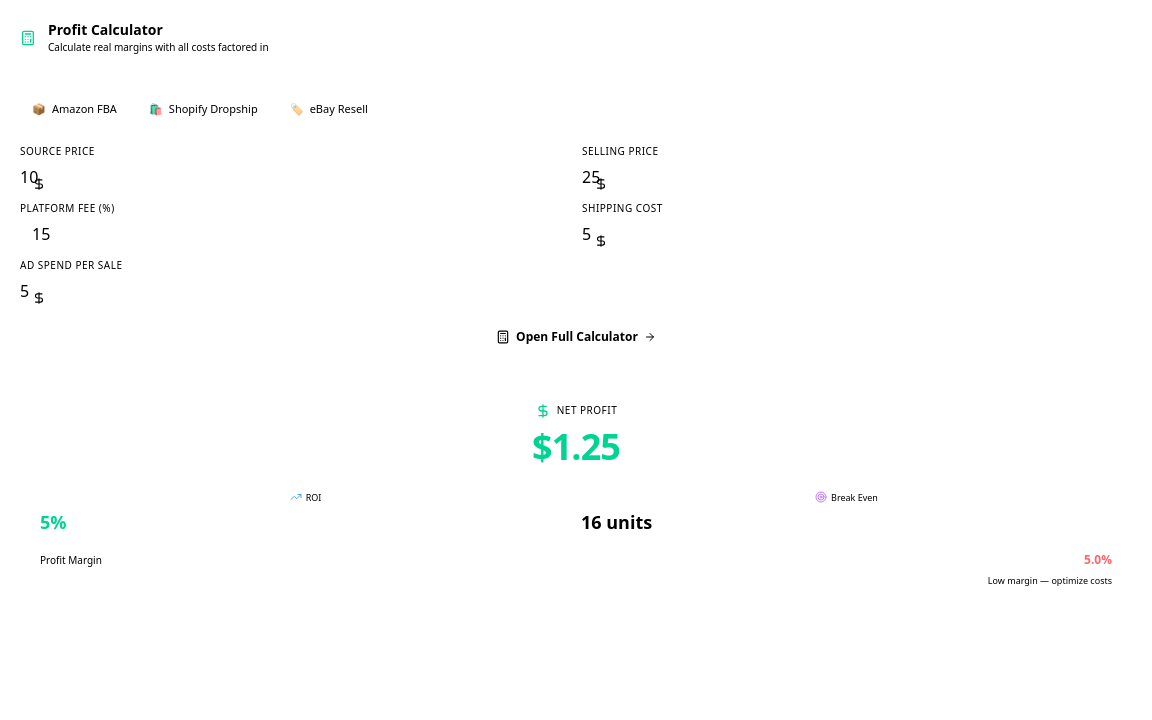
Scenario: ProfitCalculator › applies an eBay Resell preset and updates the math
This screenshot has width=1152, height=720.
Click the button "🏷️ eBay Resell".
click(329, 109)  # box [278,95,380,124]
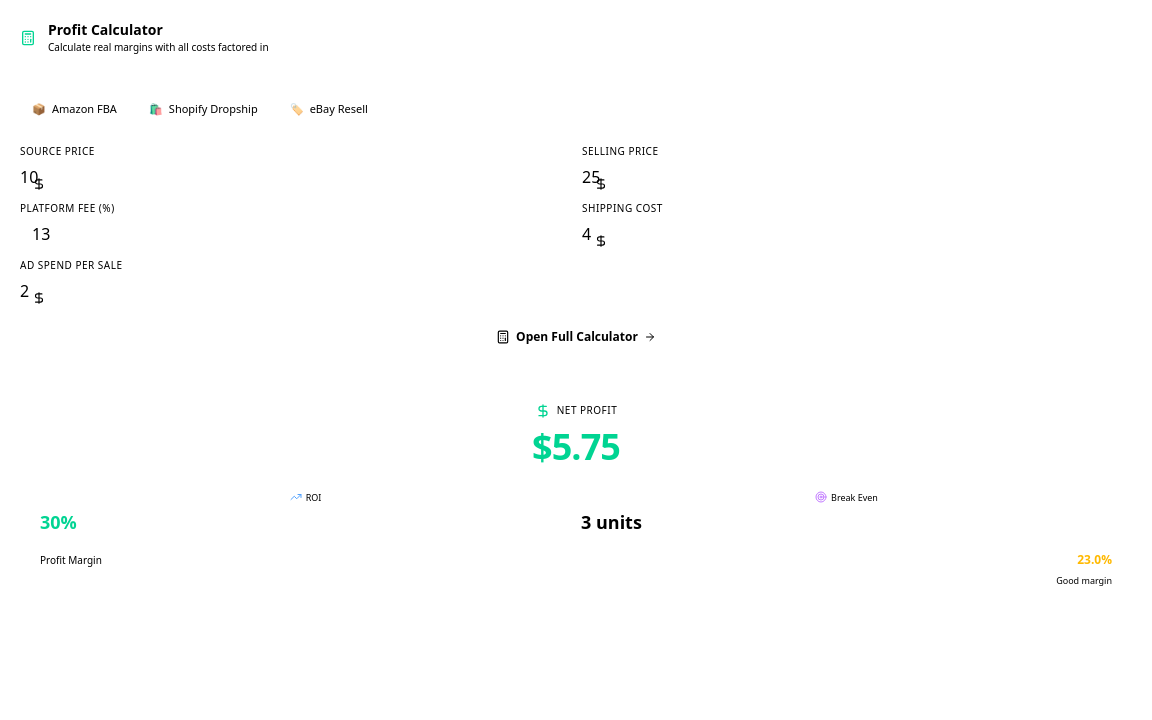
Expected: the text "$5.75" is shown, [532,422,620,470]
Expected: the text "23.0%" is shown, [1077,552,1112,568]
Expected: the text "30%" is shown, [40,510,77,534]
